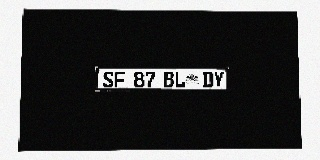plate: (95, 67, 230, 91)
